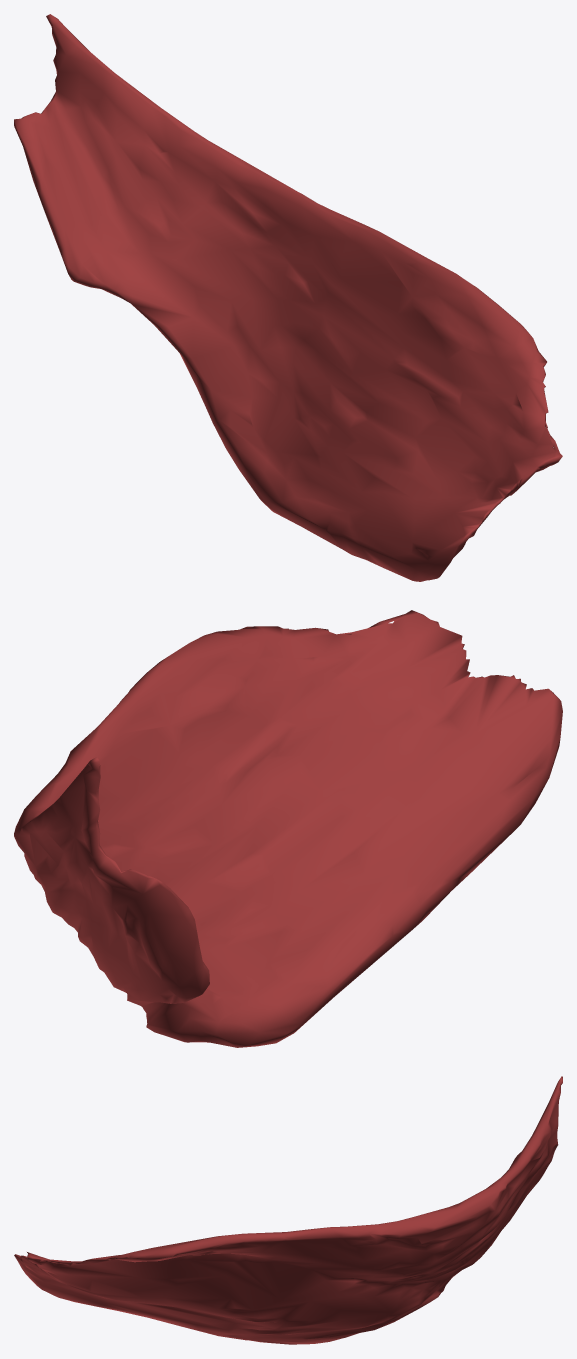
Rendered from pubococcygeus-muscle-l.glb.
3 views of the same model, one above another, from view 1: azimuth 30°, elevation 25°; view 2: azimuth 150°, elevation 25°; view 3: azimuth 270°, elevation 25° (orthographic). The views are drawn at different scales.
Visible parts, largest first — view 1: Pubococcygeus muscle.l; view 2: Pubococcygeus muscle.l; view 3: Pubococcygeus muscle.l.
Boxes of the visible parts, x1,y1,x2,y2 form: Pubococcygeus muscle.l: (14, 14, 562, 581); Pubococcygeus muscle.l: (14, 610, 562, 1047); Pubococcygeus muscle.l: (14, 1076, 562, 1344).
Size of the model in its own units: 0.0333 by 0.0483 by 0.0936.
